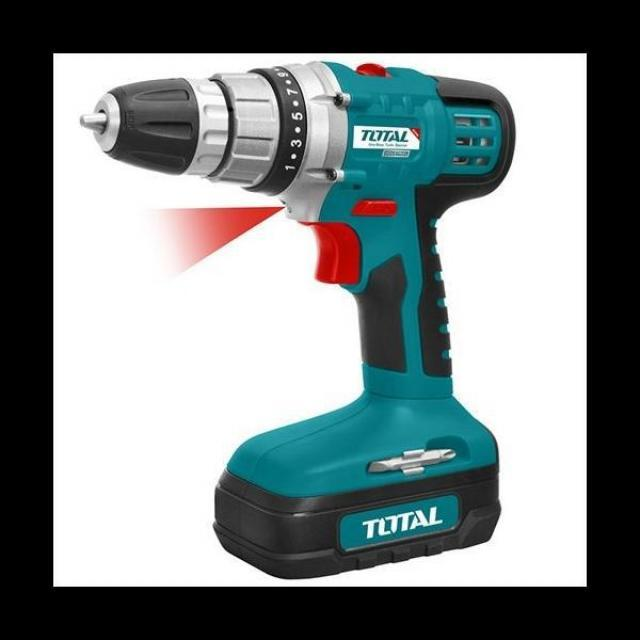drill: (78, 61, 516, 580)
